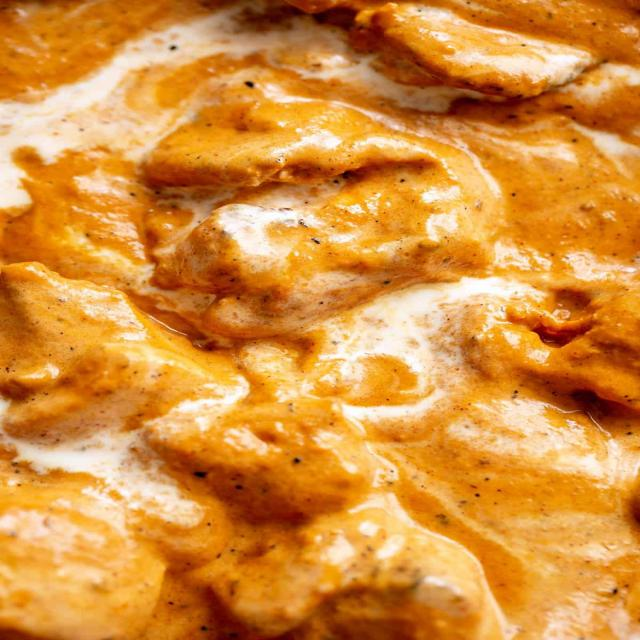chicken: (16, 15, 624, 633)
